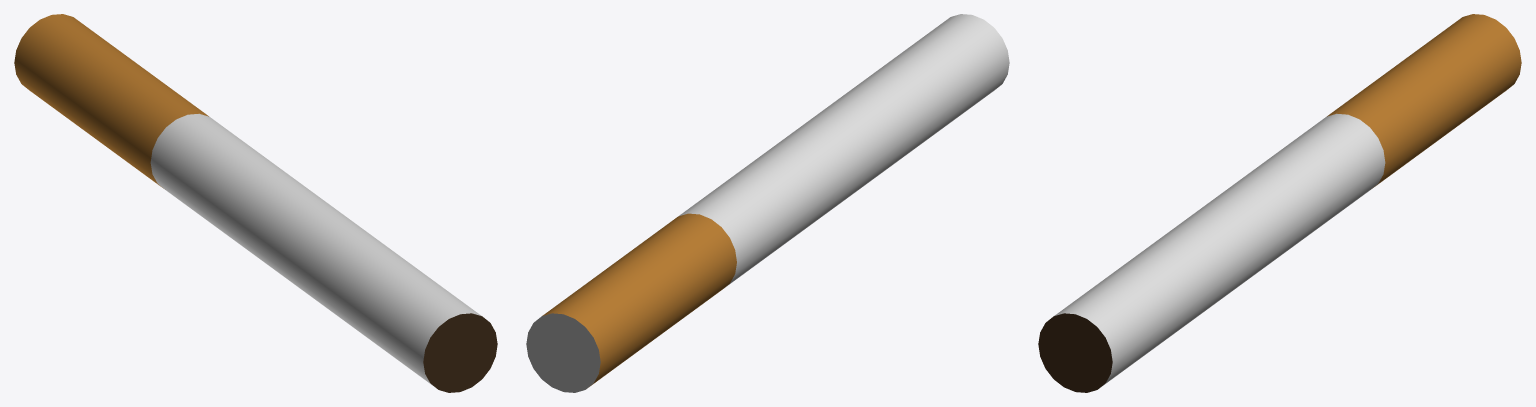
Rendered from cigarette.fbx.
3 views of the same model, side by side, from view 1: azimuth 30°, elevation 25°; view 2: azimuth 150°, elevation 25°; view 3: azimuth 330°, elevation 25° (orthographic).
Parts seen in each view (by area): view 1: the_best_cigarette; view 2: the_best_cigarette; view 3: the_best_cigarette.
Boxes of the visible parts, x1,y1,x2,y2 form: the_best_cigarette: [14, 14, 497, 392]; the_best_cigarette: [526, 14, 1009, 392]; the_best_cigarette: [1038, 14, 1521, 392].
Bounding box in the file's own units: 0.21 × 0.21 × 2.
